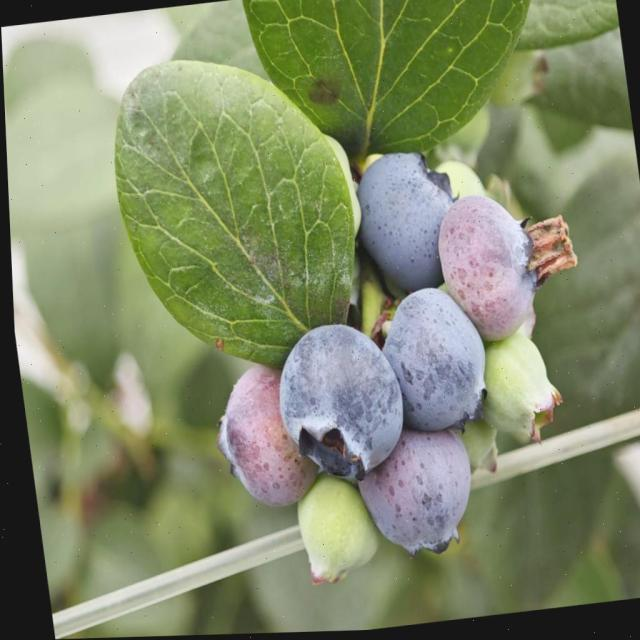RipeBlueBerry: (268, 316, 408, 484)
Semi-RipeBlueBerry: (433, 190, 558, 350)
UnripeBlueBerry: (353, 150, 458, 298)
